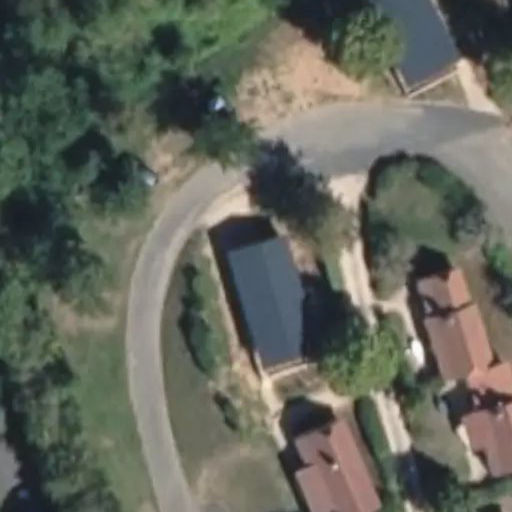pool: (229, 212, 282, 270)
